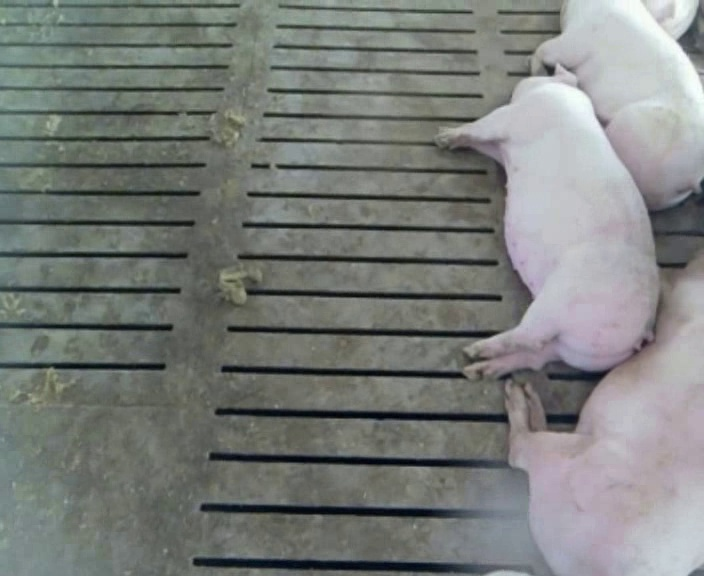pig: (436, 64, 658, 378), (506, 250, 703, 573), (532, 3, 703, 209), (643, 1, 698, 39)
